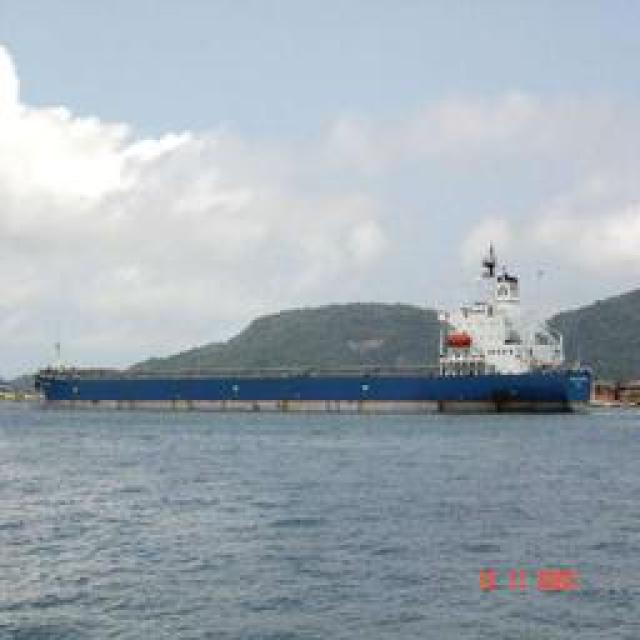Ship: (20, 367, 628, 417)
